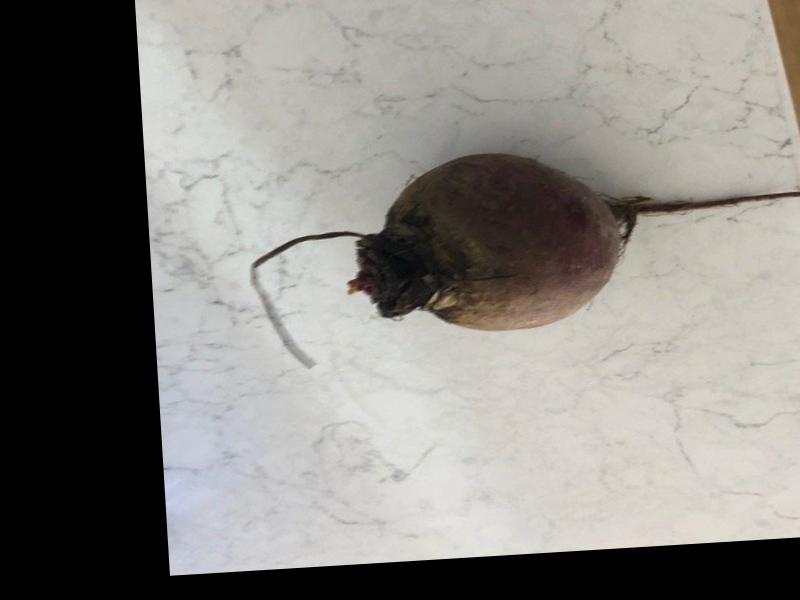Beet: (247, 133, 800, 369)
